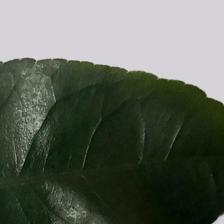healthy: (0, 63, 224, 224)
